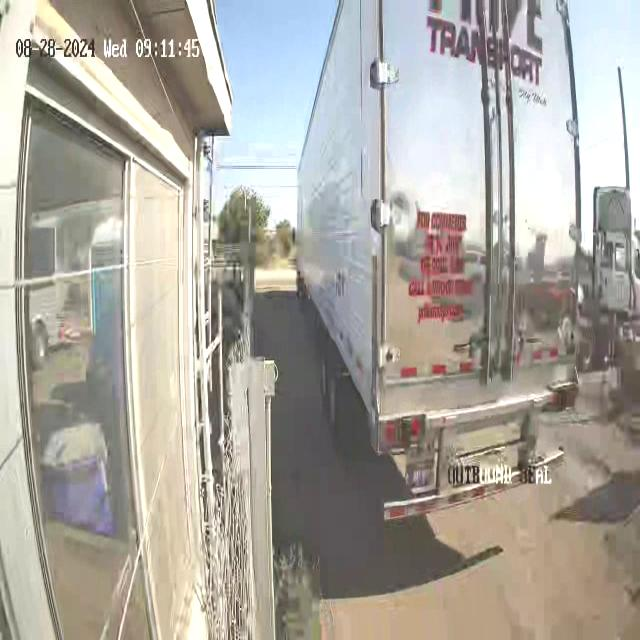TRUCK_CONTAINER: (294, 1, 580, 526)
